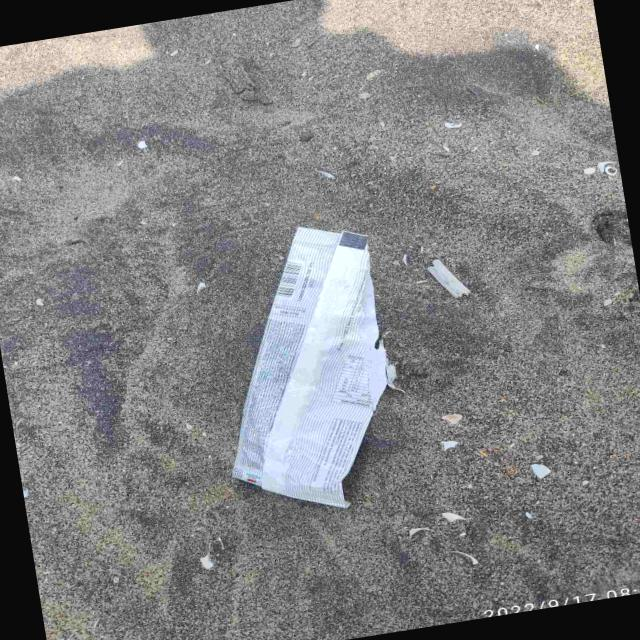giay_goi: (231, 227, 388, 508)
